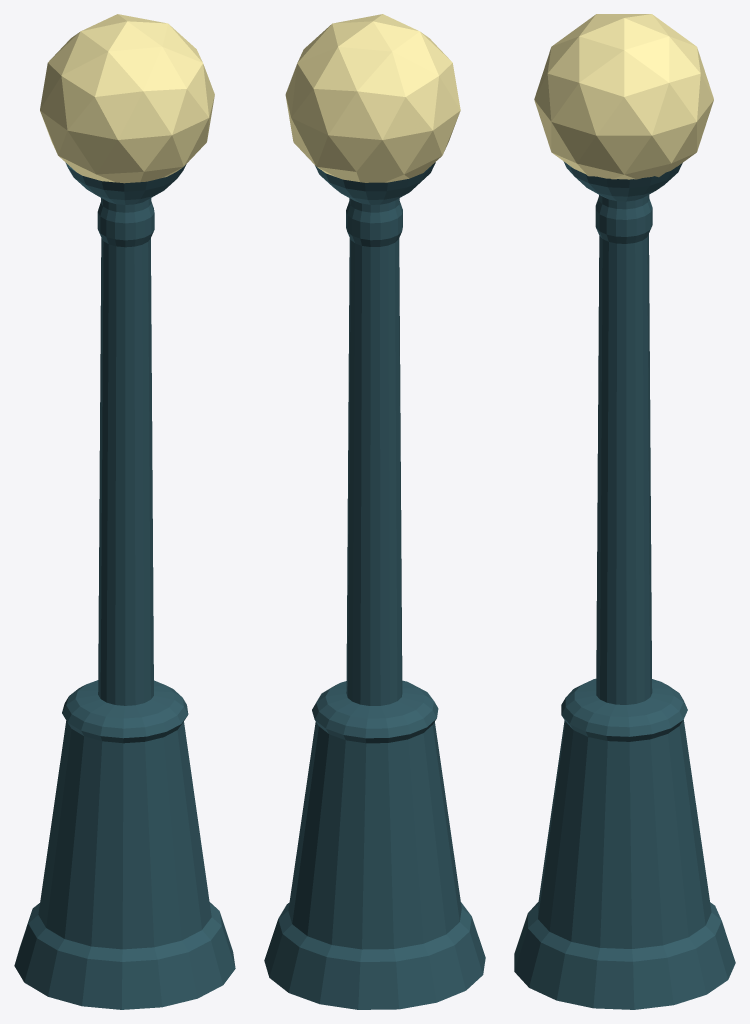
Rendered from lamp.fbx.
3 renders of one model, left to right at view 1: azimuth 30°, elevation 25°; view 2: azimuth 150°, elevation 25°; view 3: azimuth 270°, elevation 25°, orthographic.
Parts seen in each view (by area): view 1: Circle.001; view 2: Circle.001; view 3: Circle.001.
Part boxes in pixels (left/top/right/bottom): Circle.001: left=14, top=14, right=235, bottom=1009; Circle.001: left=264, top=14, right=485, bottom=1009; Circle.001: left=514, top=14, right=735, bottom=1009.
Bounding box in the file's own units: 48.85 × 230 × 49.06.
